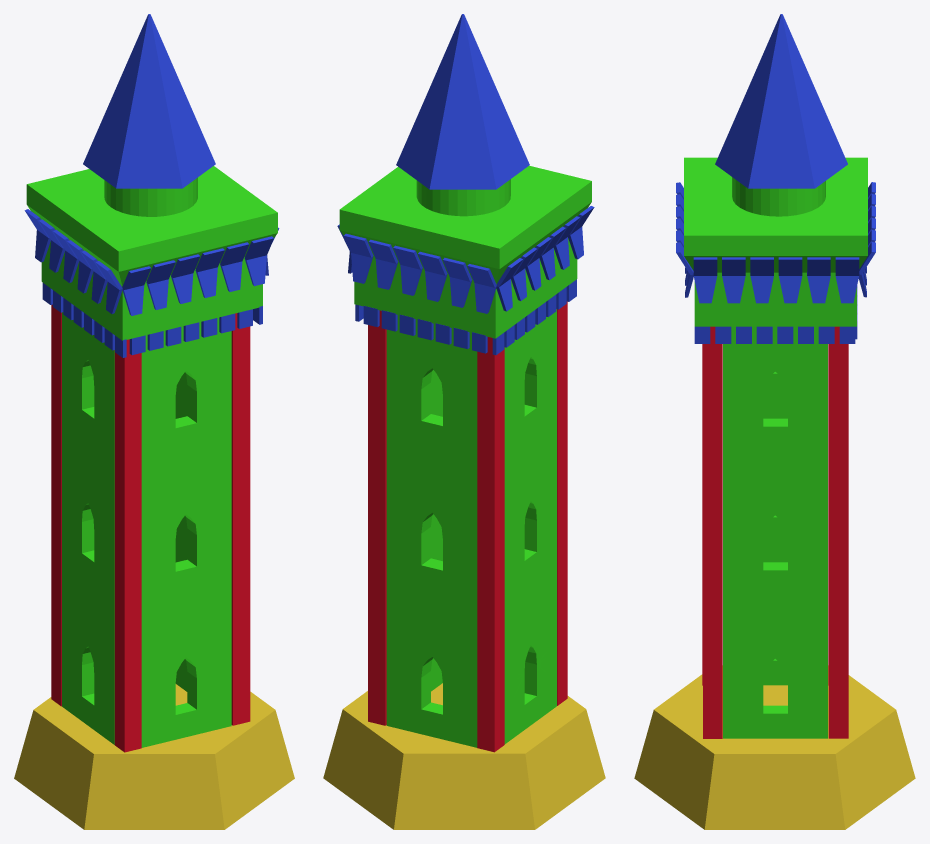
The model's file is TWLOW2.fbx.
3 views of the same model, side by side, from view 1: azimuth 30°, elevation 25°; view 2: azimuth 150°, elevation 25°; view 3: azimuth 270°, elevation 25° (orthographic).
Visible parts, largest first — view 1: wall_low, step_low, loopholes_low, roof_low, corner3_low, corner0_low, dec0_low, corner2_low, dec3_low, roof0_low, decor0_low, decor3_low; view 2: wall_low, step_low, loopholes_low, roof_low, corner2_low, corner1_low, dec2_low, corner3_low, dec3_low, roof0_low, decor2_low, decor3_low; view 3: wall_low, step_low, loopholes_low, roof_low, corner1_low, corner0_low, dec1_low, roof0_low, decor1_low, dec0_low, dec2_low.
Boxes of the visible parts, box(x1,y1,x2,y2) form: wall_low: box(62, 312, 231, 747); step_low: box(14, 684, 294, 829); loopholes_low: box(26, 166, 277, 340); roof_low: box(83, 14, 215, 188); corner3_low: box(114, 339, 141, 752); corner0_low: box(231, 313, 250, 725); dec0_low: box(122, 236, 273, 315); corner2_low: box(51, 304, 61, 706); dec3_low: box(24, 209, 122, 313); roof0_low: box(104, 177, 197, 216); decor0_low: box(129, 309, 252, 355); decor3_low: box(42, 283, 126, 357); wall_low: box(386, 309, 556, 747); step_low: box(323, 683, 605, 829); loopholes_low: box(339, 165, 591, 338); roof_low: box(396, 14, 529, 189); corner2_low: box(477, 337, 504, 752); corner1_low: box(368, 310, 386, 725); dec2_low: box(344, 233, 496, 313); corner3_low: box(557, 301, 567, 705); dec3_low: box(496, 206, 594, 311); roof0_low: box(416, 179, 510, 216); decor2_low: box(363, 306, 487, 353); decor3_low: box(492, 279, 576, 355); wall_low: box(723, 326, 827, 738); step_low: box(634, 665, 915, 829); loopholes_low: box(684, 157, 867, 326); roof_low: box(715, 14, 847, 188); corner1_low: box(828, 326, 848, 738); corner0_low: box(703, 326, 722, 738); dec1_low: box(693, 257, 859, 303); roof0_low: box(732, 177, 825, 216); decor1_low: box(694, 326, 855, 343); dec0_low: box(676, 182, 693, 297); dec2_low: box(858, 182, 875, 297).
Bounding box in the file's own units: 2449 × 8466 × 2828.
